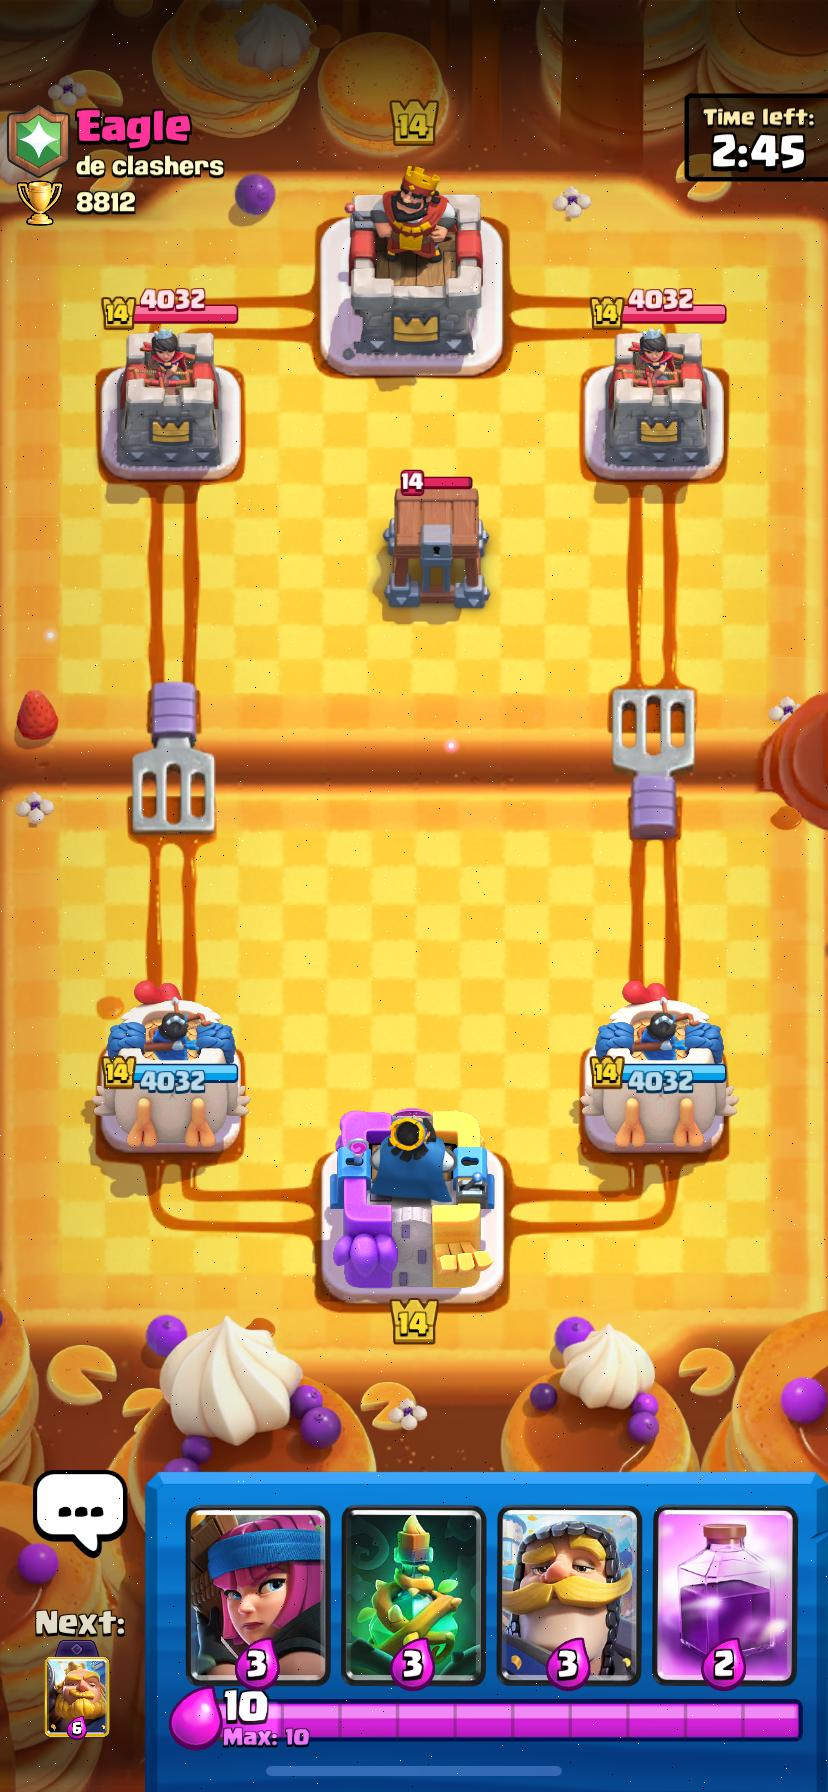EGoblinCage: (384, 471, 488, 607)
EKingTower: (337, 168, 502, 375)
EnemyPrincessTower: (101, 327, 241, 480), (586, 329, 724, 480)
OwnKingTower: (323, 1109, 503, 1302)
OwnPrincessTower: (93, 984, 248, 1151), (581, 987, 737, 1151)
